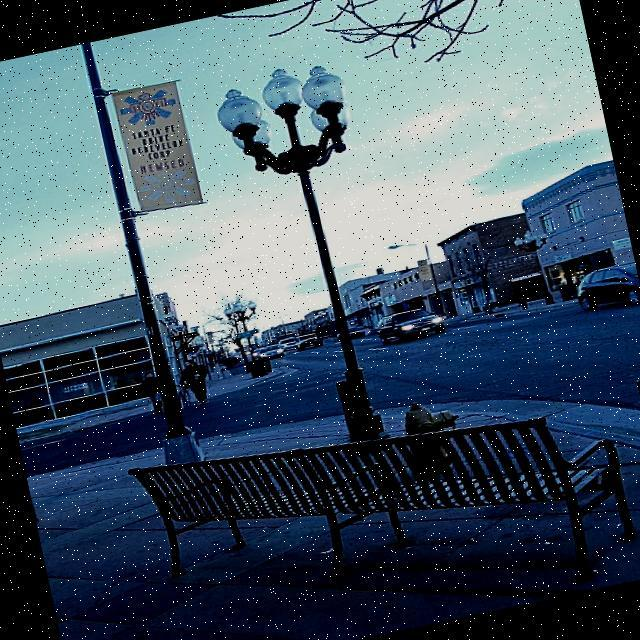fire_hydrant: (399, 395, 454, 439)
